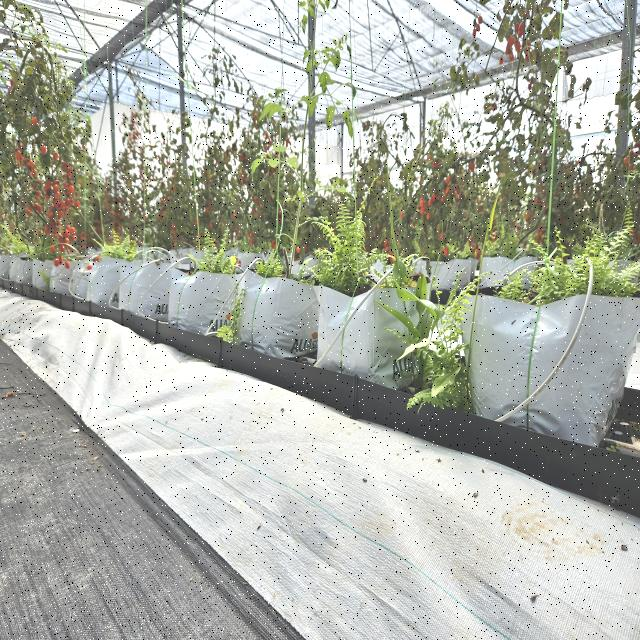Obstacle: (493, 268, 594, 422), (320, 265, 397, 357)
Soilbag: (464, 276, 632, 449), (314, 274, 418, 381), (239, 269, 332, 360), (172, 258, 250, 347), (118, 250, 185, 328), (92, 256, 138, 305), (72, 260, 110, 299)
plant: (479, 18, 628, 304)
